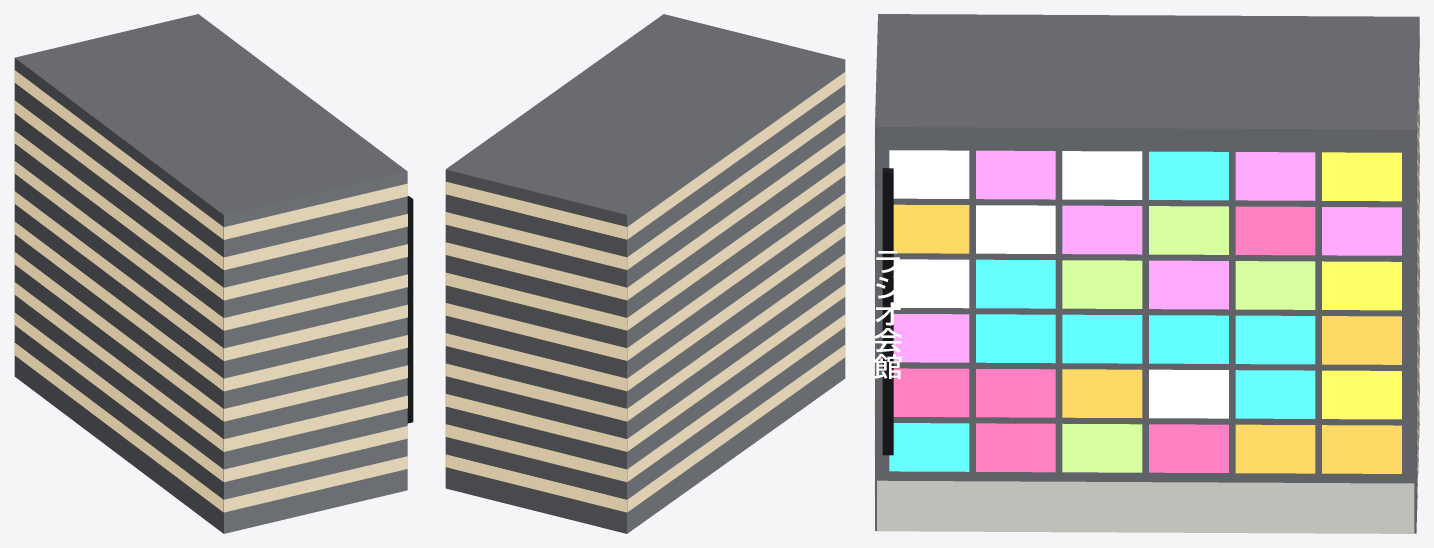
The model's file is radio_kaikan.glb.
The picture shows the model from 3 angles, left to right: view 1: azimuth 30°, elevation 25°; view 2: azimuth 150°, elevation 25°; view 3: azimuth 270°, elevation 25°; orthographic projection. The views are drawn at different scales.
Visible parts, largest first — view 1: FRK_Building; view 2: FRK_Building; view 3: FRK_Building.
Boxes of the visible parts, x1,y1,x2,y2 form: FRK_Building: (14, 14, 416, 533); FRK_Building: (445, 14, 845, 533); FRK_Building: (874, 14, 1419, 533).
Size of the model in its own units: 25.16 by 40 by 48.98.
